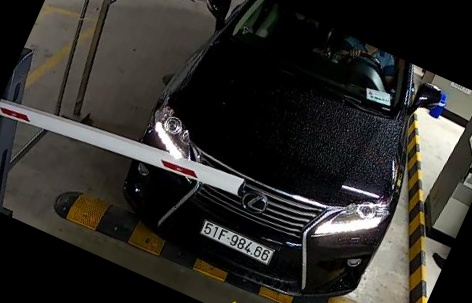plate: (195, 215, 276, 269)
